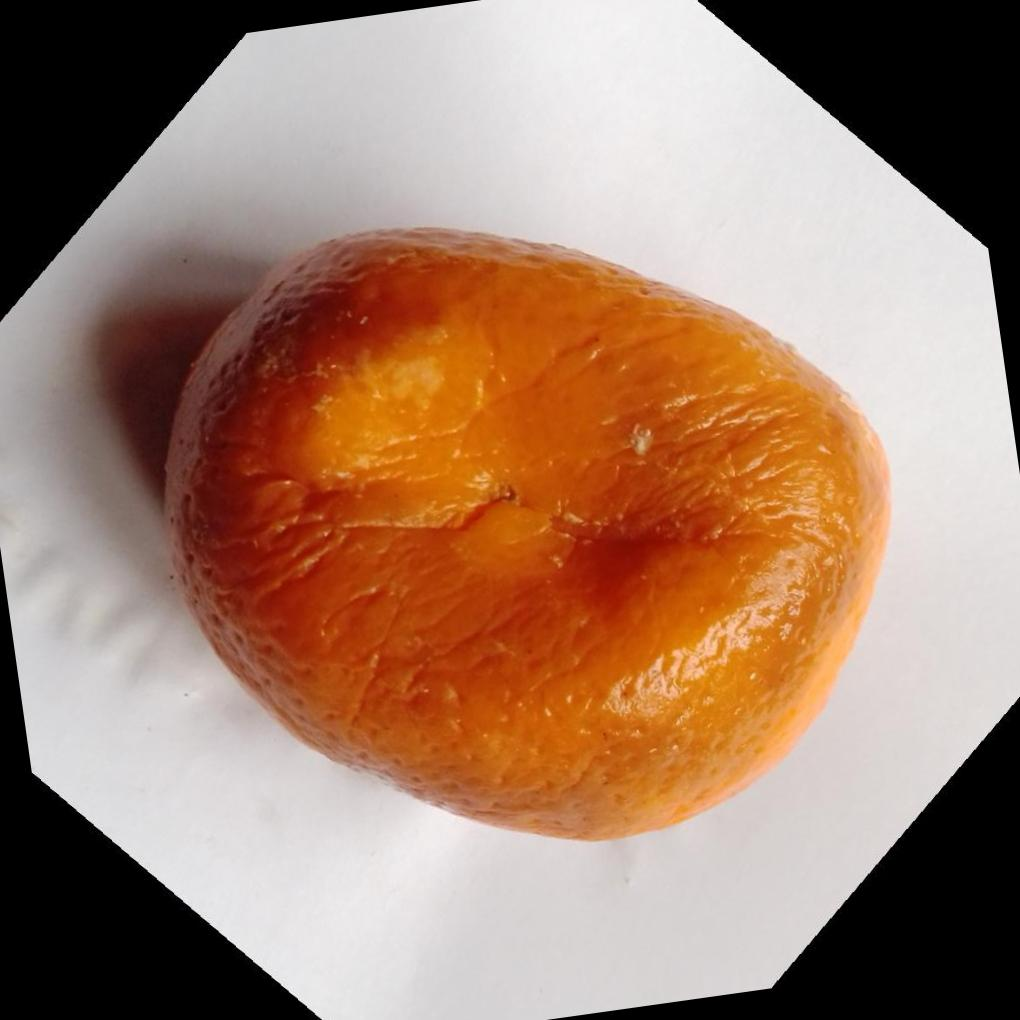FreshOrange: (164, 225, 897, 843)
